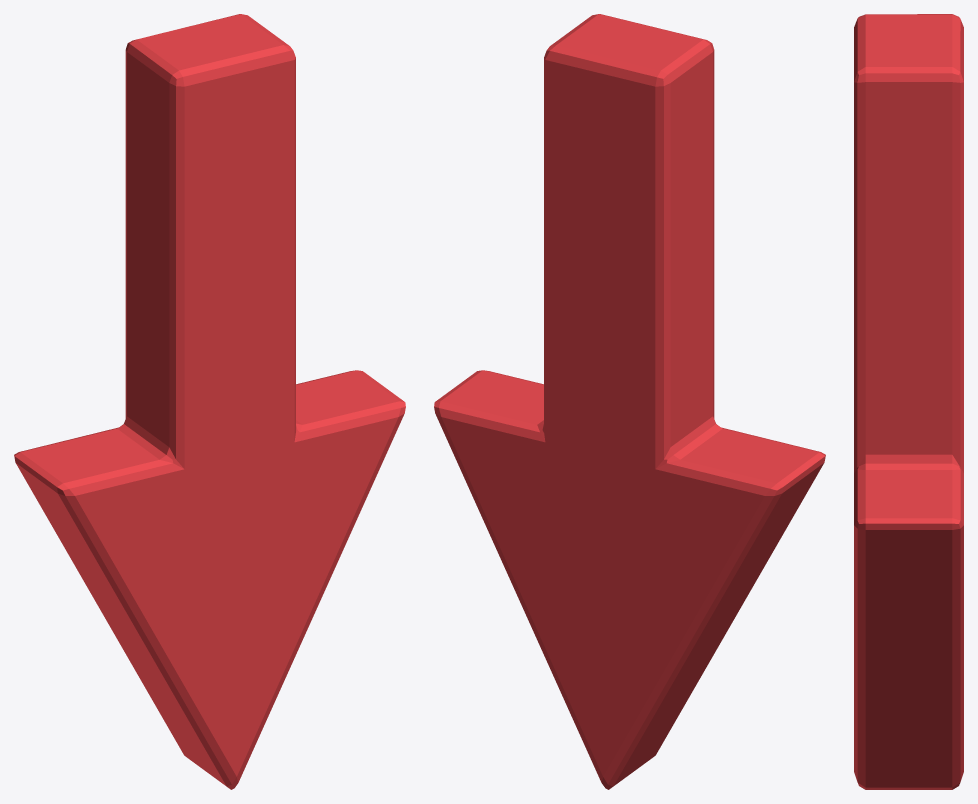
Rendered from arrow.glb.
The picture shows the model from 3 angles, left to right: view 1: azimuth 30°, elevation 25°; view 2: azimuth 150°, elevation 25°; view 3: azimuth 270°, elevation 25°; orthographic projection. The views are drawn at different scales.
Parts seen in each view (by area): view 1: Arrow; view 2: Arrow; view 3: Arrow.
Boxes of the visible parts, x1,y1,x2,y2 form: Arrow: [14, 14, 405, 789]; Arrow: [434, 14, 825, 789]; Arrow: [854, 14, 963, 789].
Bounding box in the file's own units: 0.9005 × 1.81 × 0.24.
